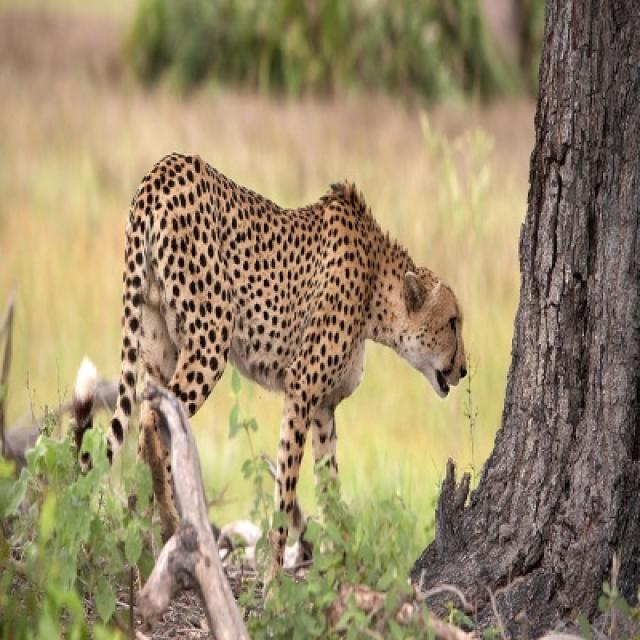Cheetah: (98, 154, 466, 534)
